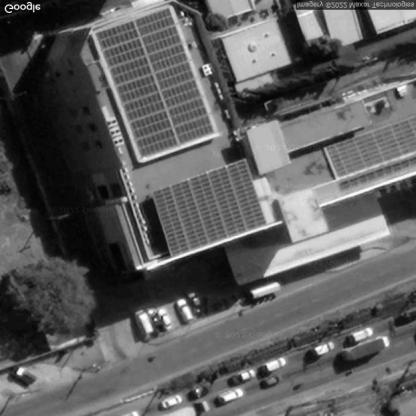solar-pv-panel: (93, 6, 217, 160), (154, 156, 268, 256), (324, 112, 416, 181)
